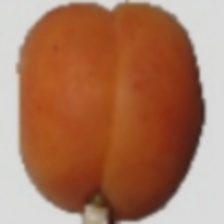apricot: (46, 14, 184, 166)
